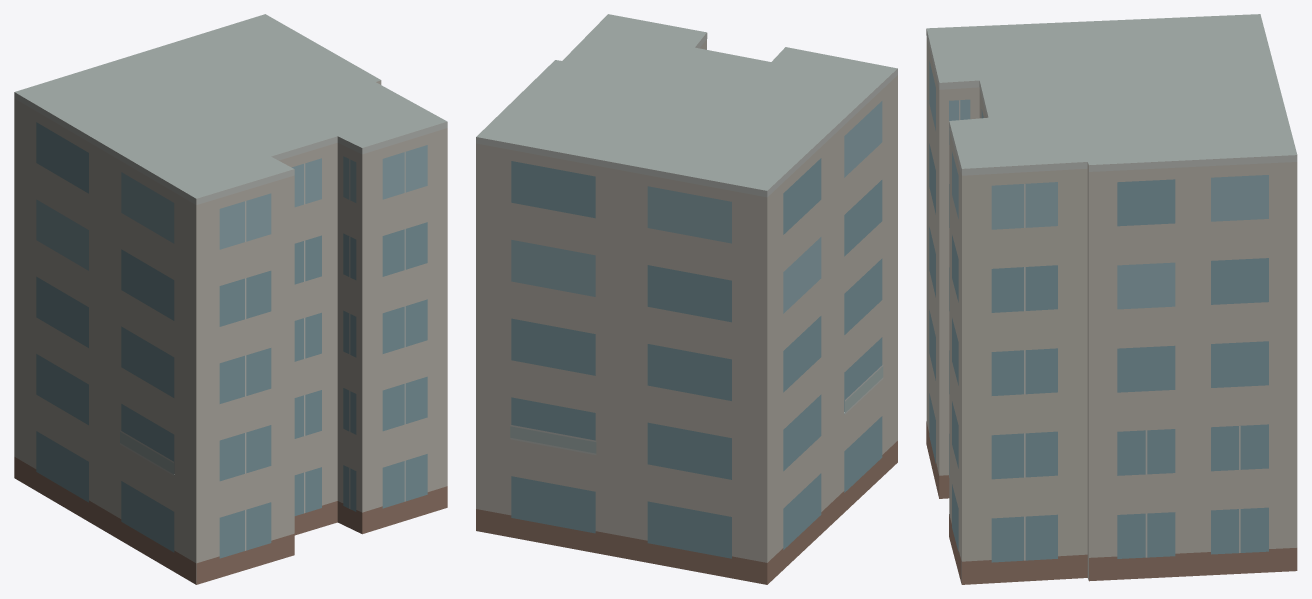
The model's file is survey-upis-32471263.glb.
3 views of the same model, side by side, from view 1: azimuth 30°, elevation 25°; view 2: azimuth 150°, elevation 25°; view 3: azimuth 270°, elevation 25° (orthographic). The views are drawn at different scales.
Visible parts, largest first — view 1: survey-upis-32471263.tmp; view 2: survey-upis-32471263.tmp; view 3: survey-upis-32471263.tmp.
Boxes of the visible parts, box(x1,y1,x2,y2) form: survey-upis-32471263.tmp: box(14, 14, 447, 584); survey-upis-32471263.tmp: box(476, 14, 897, 584); survey-upis-32471263.tmp: box(926, 14, 1297, 584).
Size of the model in its own units: 11.83 by 14.8 by 11.97.
